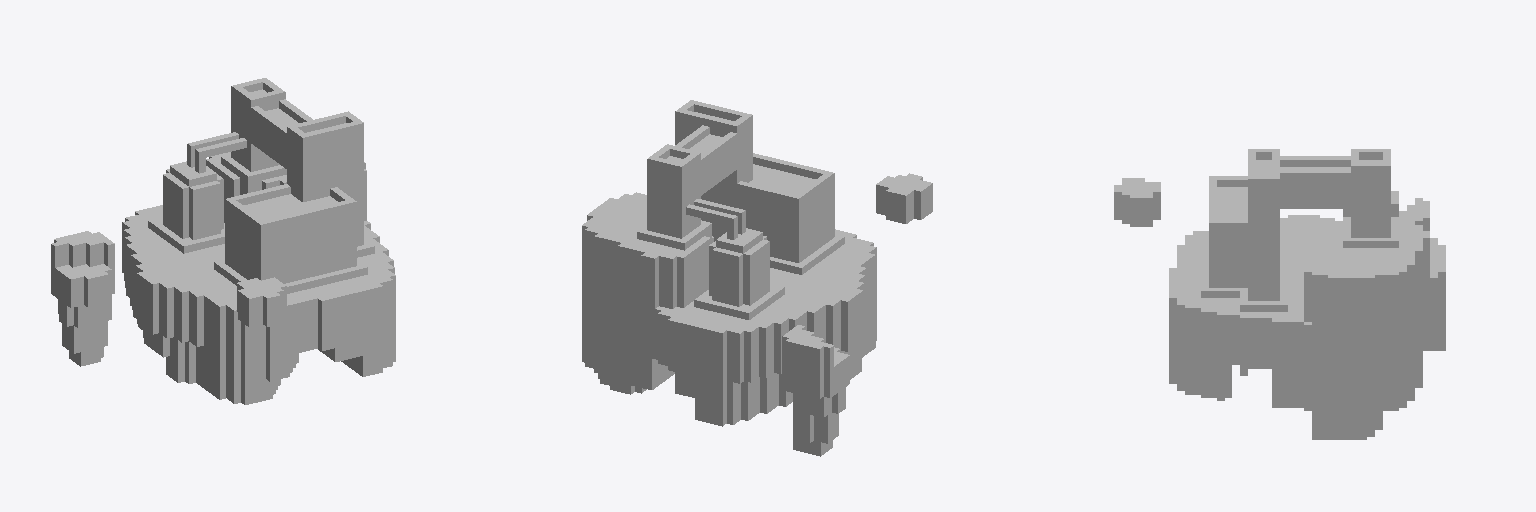
Rendered from factory2.obj.
3 renders of one model, left to right at view 1: azimuth 30°, elevation 25°; view 2: azimuth 150°, elevation 25°; view 3: azimuth 270°, elevation 25°, orthographic.
Parts seen in each view (by area): view 1: object 1; view 2: object 1; view 3: object 1.
Boxes of the visible parts, x1=… form: object 1: x1=51, y1=78, x2=395, y2=404; object 1: x1=582, y1=100, x2=932, y2=456; object 1: x1=1114, y1=149, x2=1445, y2=439.
Size of the model in its own units: 3.9 by 3.4 by 4.2.